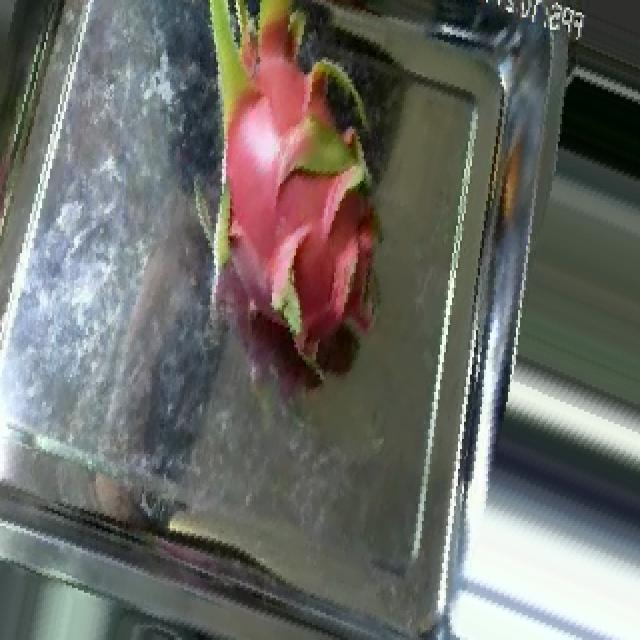fruit: (100, 0, 464, 422)
